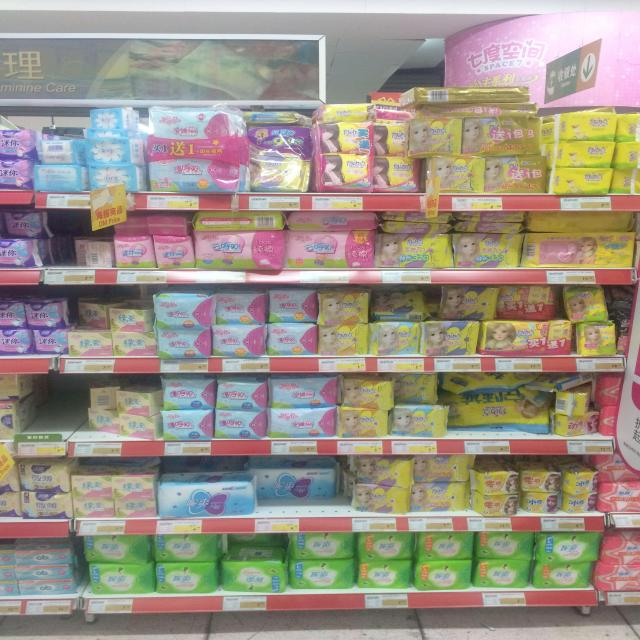empty_space: (27, 381, 81, 427), (54, 217, 78, 265)
